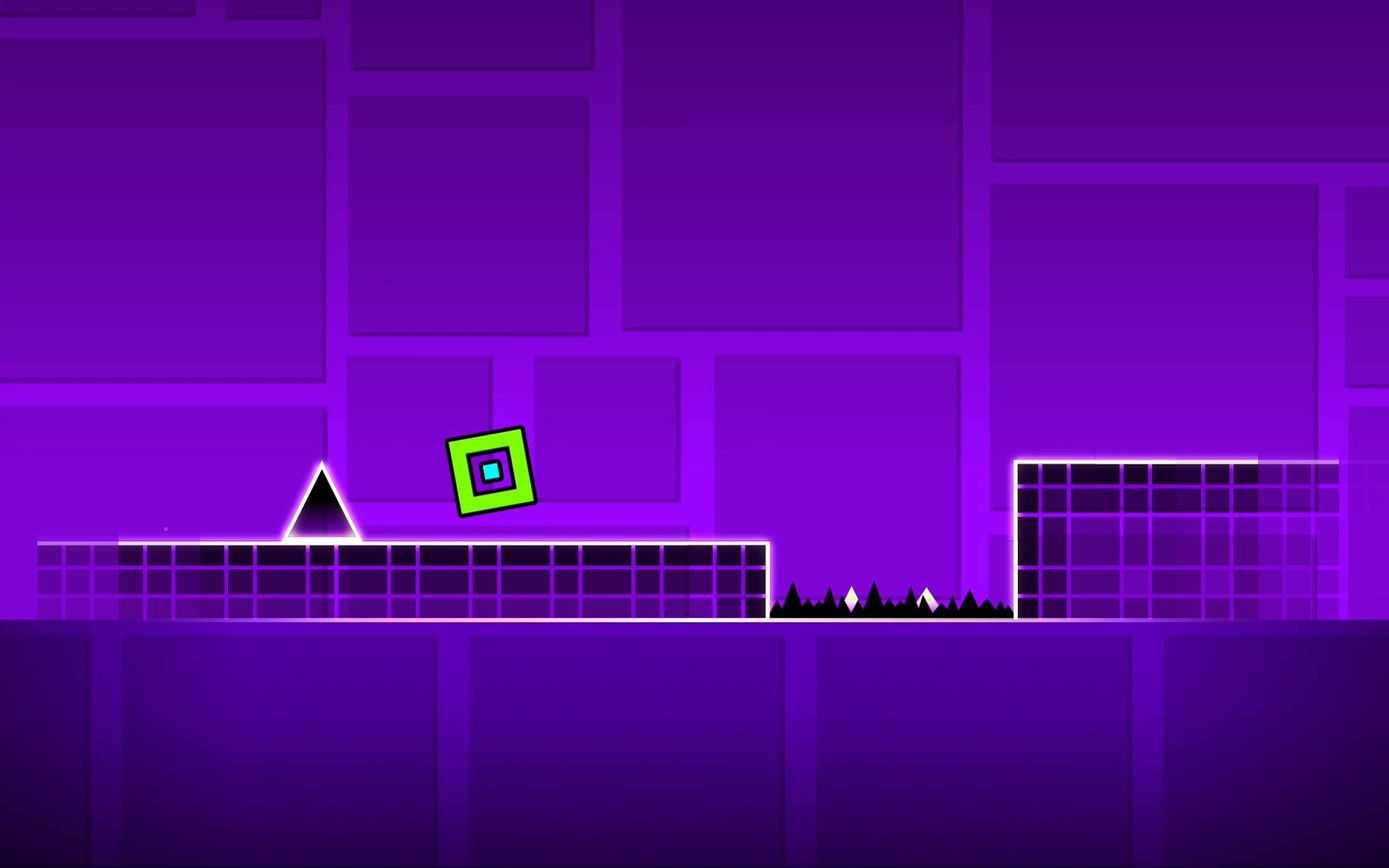Block2: (0, 543, 765, 620), (1017, 464, 1388, 618)
Player: (446, 426, 536, 516)
Spike: (284, 462, 359, 540)
Spike2: (769, 587, 1014, 624)
